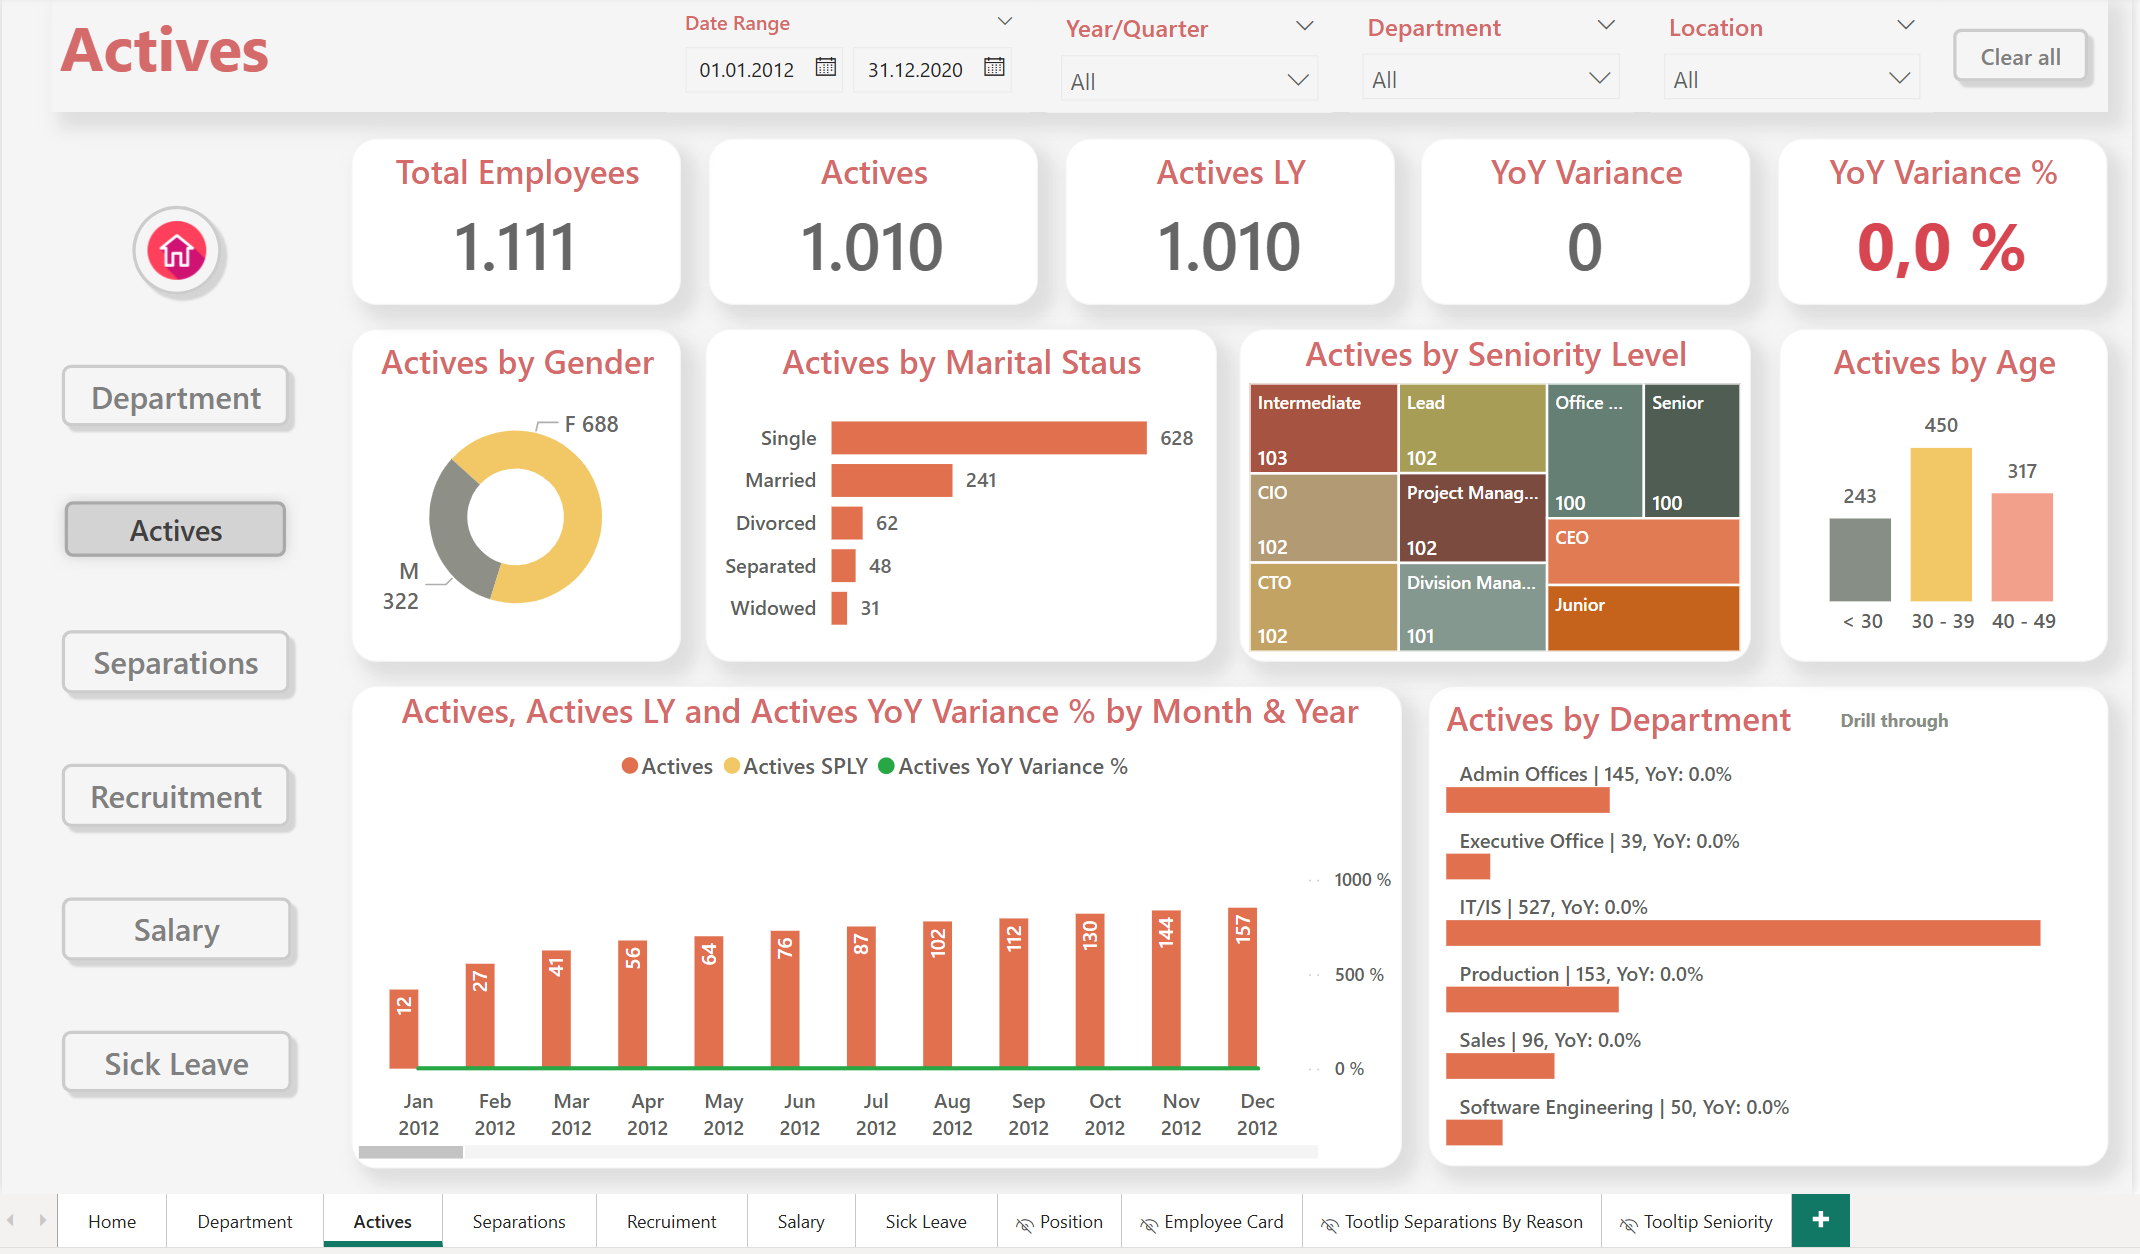

Layout of this report page (visuals, bound fields, positions):
{"tool":"powerbi","page":{"name":"Actives","canvas":[1280,720],"ordinal":2},"visuals":[{"type":"textbox","box":[29.7,0,1236,70.3],"z":0},{"type":"card","title":"Actives","fields":{"Values":["Cards.Actives Card"]},"box":[424.5,85.5,198.2,100],"z":1000},{"type":"card","title":"Actives LY","fields":{"Values":["Cards.Actives LY Card"]},"box":[638.9,85.5,198,100],"z":2000},{"type":"donutChart","fields":{"Category":["Gender.Gender"],"Y":["Used Measures.Actives"]},"box":[210.1,200.1,198.3,200.1],"z":3000},{"type":"card","title":"Total Employees","fields":{"Values":["Cards.Total Employees Card"]},"box":[210.1,85.6,198.3,100.1],"z":4000},{"type":"lineClusteredColumnComboChart","title":"Actives, Actives LY and Actives YoY Variance % by Month & Year","fields":{"Category":["Date.Month & Year"],"Y":["Used Measures.Actives","Used Measures.Actives Last Year"],"Y2":["Used Measures.Actives YoY Variance %"]},"box":[210.1,415,631,290],"z":5000},{"type":"clusteredBarChart","title":"Actives by Marital Staus","fields":{"Category":["MaritalStatus.MaritalDesc"],"Y":["Used Measures.Actives"]},"box":[423,200.3,307,200.3],"z":6000},{"type":"clusteredBarChart","title":"Actives by Department","fields":{"Category":["Department.DepartmentName"],"Y":["Label.Label Placeholder","Used Measures.Actives"]},"box":[857.3,414.7,408.4,288.5],"z":7000},{"type":"card","title":"YoY Variance","fields":{"Values":["Used Measures.Actives YoY Var"]},"box":[853.1,85.5,198.2,100],"z":8000},{"type":"card","title":"YoY Variance %","fields":{"Values":["Used Measures.Actives YoY Variance %"]},"box":[1067.4,85.6,198.3,100.1],"z":9000},{"type":"treemap","title":"Actives by Seniority Level","fields":{"Group":["SeniorityLevel.Seniority"],"Values":["Used Measures.Actives"]},"box":[743.7,200.1,307.4,200.1],"z":10000},{"type":"clusteredColumnChart","title":"Actives by Age","fields":{"Category":["Age Group.Age"],"Y":["Used Measures.Actives"]},"box":[1068.3,200.1,197.4,200.1],"z":11000},{"type":"textbox","box":[1099.8,419.2,97.4,27.9],"z":12000},{"type":"actionButton","box":[29.7,295.3,149.7,49.6],"z":13000},{"type":"actionButton","box":[29.7,374.7,149.7,50.5],"z":14000},{"type":"actionButton","box":[29.7,615.7,150.6,49.6],"z":15000},{"type":"actionButton","box":[29.7,535.4,150.6,50.5],"z":16000},{"type":"actionButton","box":[29.7,455.1,149.7,50.5],"z":17000},{"type":"actionButton","box":[72,120,66,66],"z":18000},{"type":"actionButton","box":[29.7,215.9,149.7,49.6],"z":19000},{"type":"actionButton","box":[1166.6,13.5,93.8,44.2],"z":20000},{"type":"slicer","fields":{"Values":["Department.Name"]},"box":[805.1,0,180.3,70.3],"z":21000},{"type":"slicer","fields":{"Values":["Location.Region","Location.Continent","Location.CountryName"]},"box":[986.3,0,179.4,70.3],"z":22000},{"type":"slicer","fields":{"Values":["Date.DateKey"]},"box":[394.9,0,228.1,70.3],"z":23000},{"type":"slicer","fields":{"Values":["Date.Year","Date.QuarterName"]},"box":[623.8,0.9,180.3,69.4],"z":24000}]}

Visuals, with their boxes on the page's 1280x720 design canvas (x1, y1, x2, y2). These are canvas units, not pixel positions in the 2140x1254 screenshot, which may show the page scaled, cropped or inside an application window:
textbox: [30, 0, 1266, 70]
"Actives" card: [424, 86, 623, 186]
"Actives LY" card: [639, 86, 837, 186]
donutChart - Gender.Gender x Used Measures.Actives: [210, 200, 408, 400]
"Total Employees" card: [210, 86, 408, 186]
"Actives, Actives LY and Actives YoY Variance % by Month & Year" lineClusteredColumnComboChart: [210, 415, 841, 705]
"Actives by Marital Staus" clusteredBarChart: [423, 200, 730, 401]
"Actives by Department" clusteredBarChart: [857, 415, 1266, 703]
"YoY Variance" card: [853, 86, 1051, 186]
"YoY Variance %" card: [1067, 86, 1266, 186]
"Actives by Seniority Level" treemap: [744, 200, 1051, 400]
"Actives by Age" clusteredColumnChart: [1068, 200, 1266, 400]
textbox: [1100, 419, 1197, 447]
actionButton: [30, 295, 179, 345]
actionButton: [30, 375, 179, 425]
actionButton: [30, 616, 180, 665]
actionButton: [30, 535, 180, 586]
actionButton: [30, 455, 179, 506]
actionButton: [72, 120, 138, 186]
actionButton: [30, 216, 179, 266]
actionButton: [1167, 14, 1260, 58]
slicer - Department.Name: [805, 0, 985, 70]
slicer - Location.Region x Location.Continent: [986, 0, 1166, 70]
slicer - Date.DateKey: [395, 0, 623, 70]
slicer - Date.Year x Date.QuarterName: [624, 1, 804, 70]
